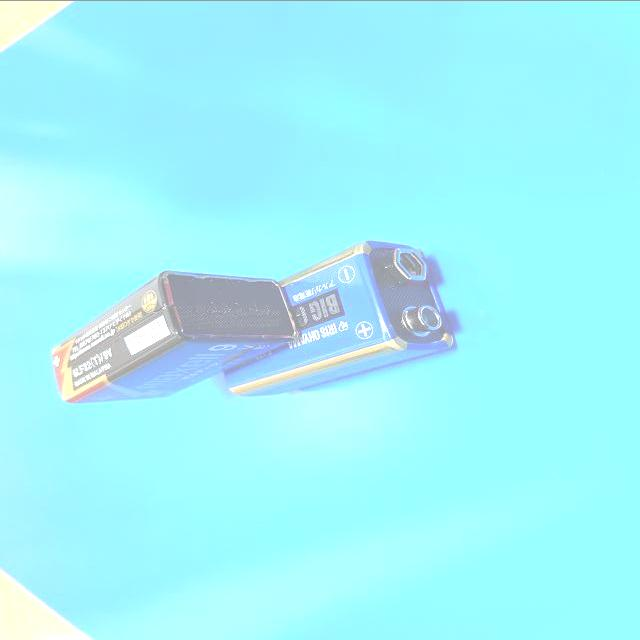9V: (222, 239, 456, 394), (49, 268, 303, 404)
